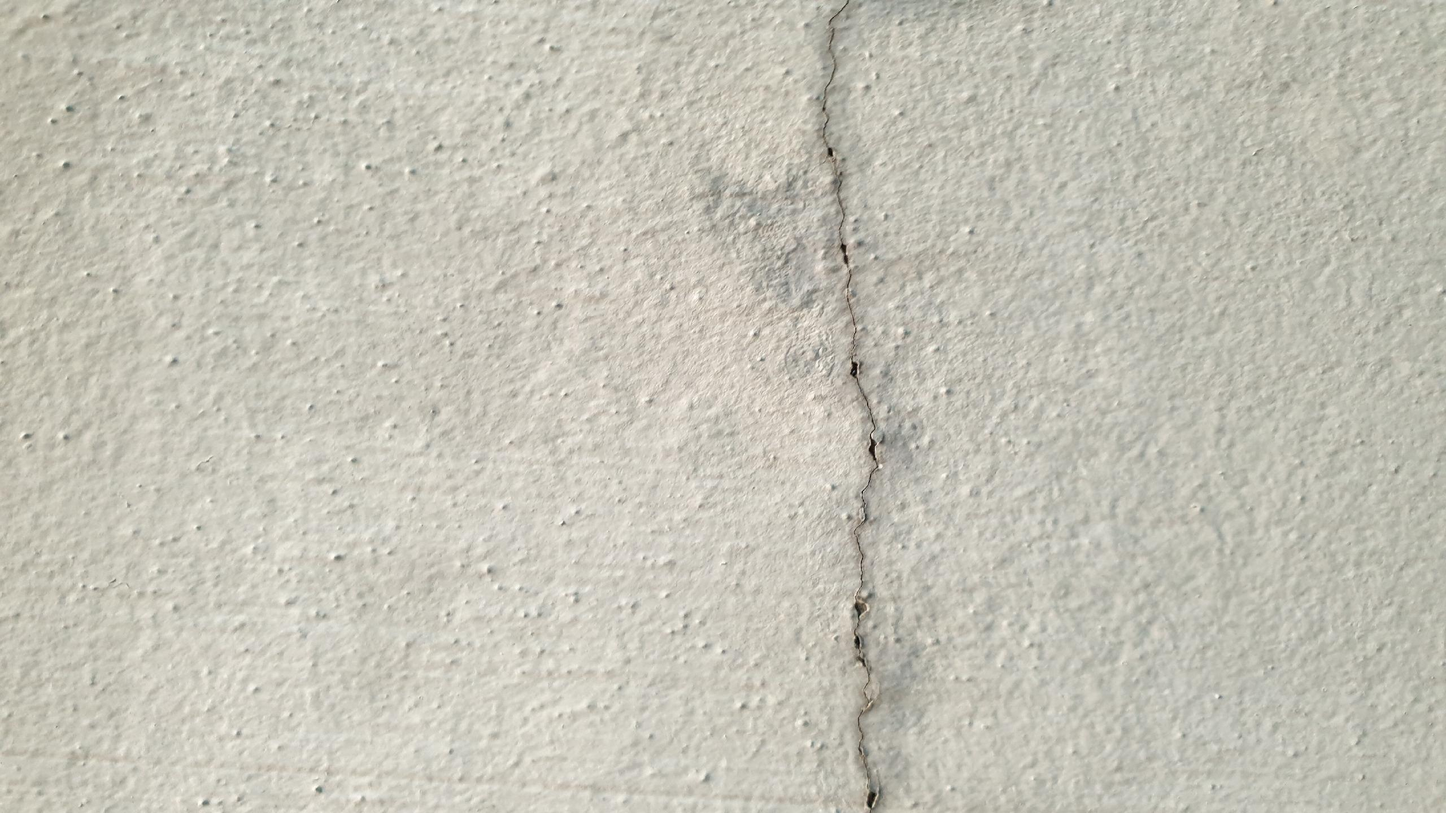crack: (822, 1, 880, 808)
